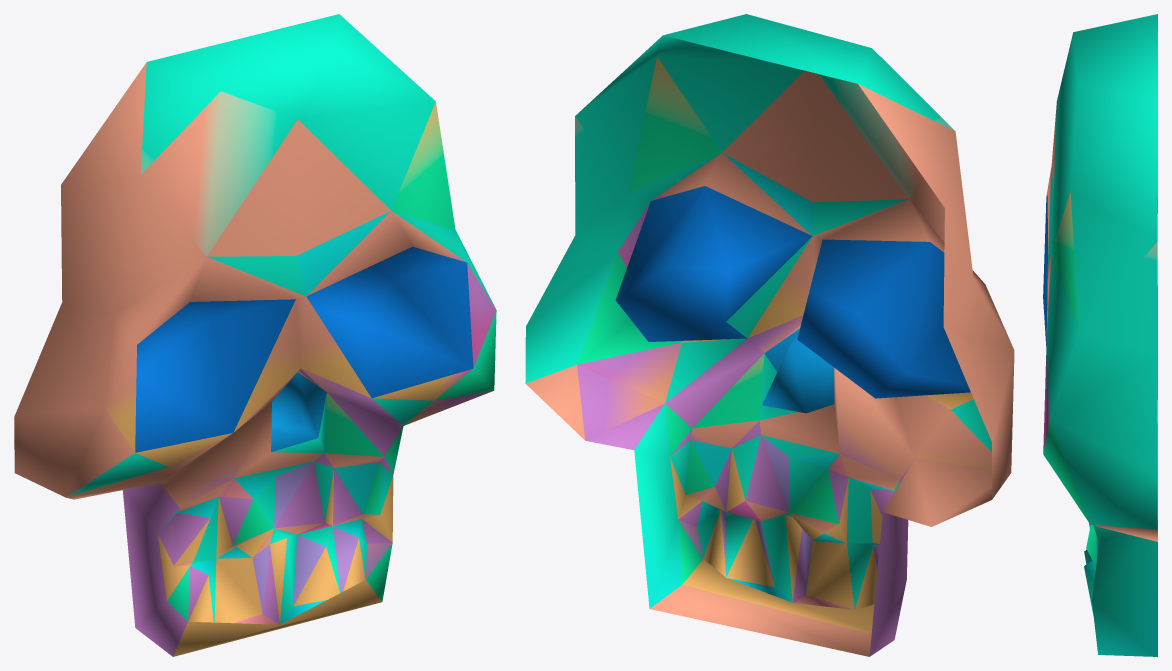
The model's file is HWN20_SkullDeco_DDLM_02.glb.
The picture shows the model from 3 angles, left to right: view 1: azimuth 30°, elevation 25°; view 2: azimuth 150°, elevation 25°; view 3: azimuth 270°, elevation 25°; orthographic projection. The views are drawn at different scales.
Parts seen in each view (by area): view 1: HWN20_SkullDeco_DDLM_02; view 2: HWN20_SkullDeco_DDLM_02; view 3: HWN20_SkullDeco_DDLM_02.
Boxes of the visible parts, x1,y1,x2,y2 form: HWN20_SkullDeco_DDLM_02: (14, 14, 496, 656); HWN20_SkullDeco_DDLM_02: (525, 14, 1014, 656); HWN20_SkullDeco_DDLM_02: (1043, 14, 1157, 656).
Size of what is drawn, in the model's own units: 0.2105 by 0.2498 by 0.0473.
Materials: 1 (1 with a texture image).
